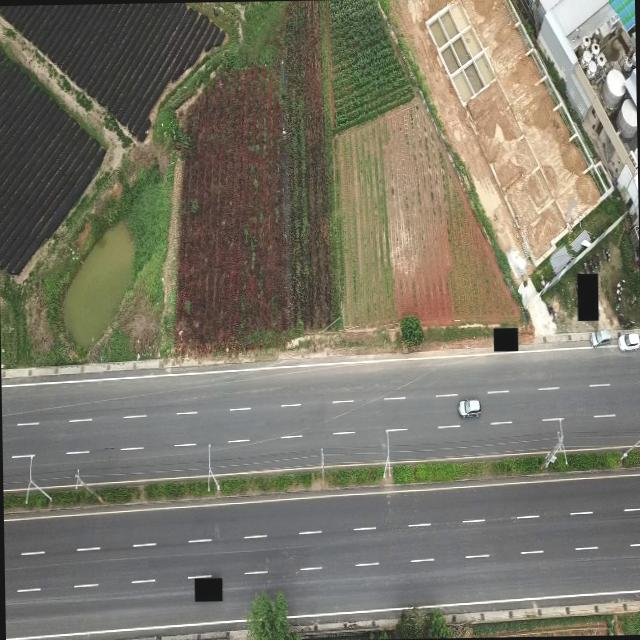car: (456, 394, 482, 418), (618, 329, 640, 352), (590, 327, 612, 347)
